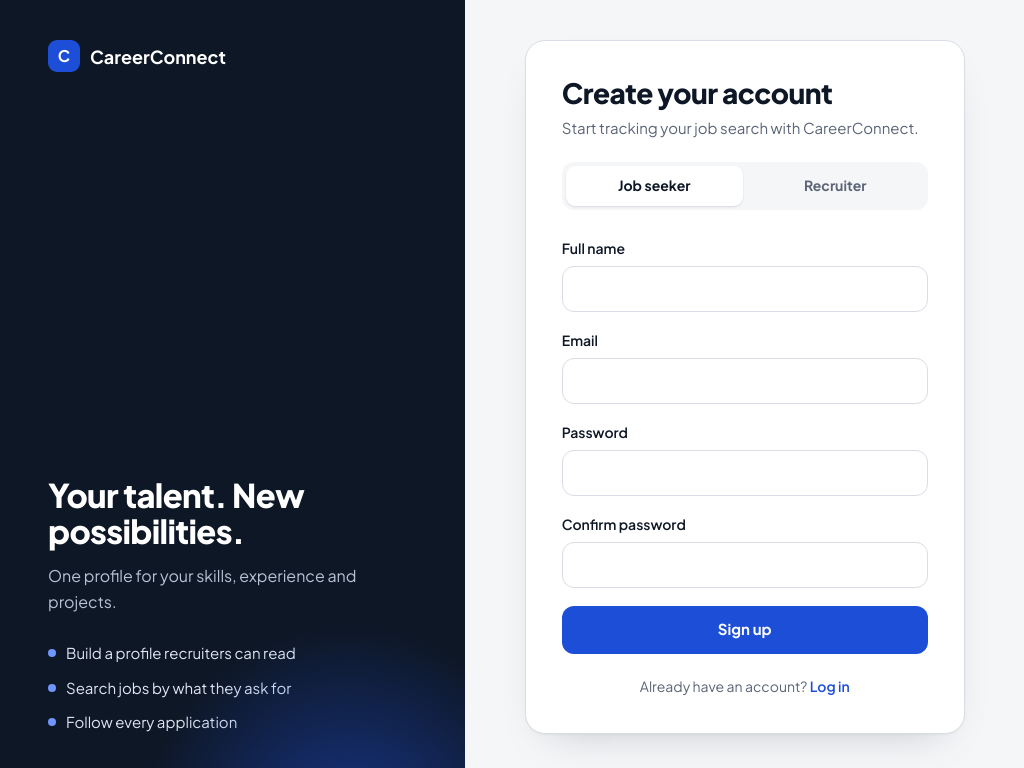
Test: signup submission › shows a returned error and re-enables the button without redirecting
The width and height of the screenshot is (1024, 768).
Type "Test User" into the field labelled "Full name". click: (745, 289)
box: x1=562 y1=266 x2=928 y2=312
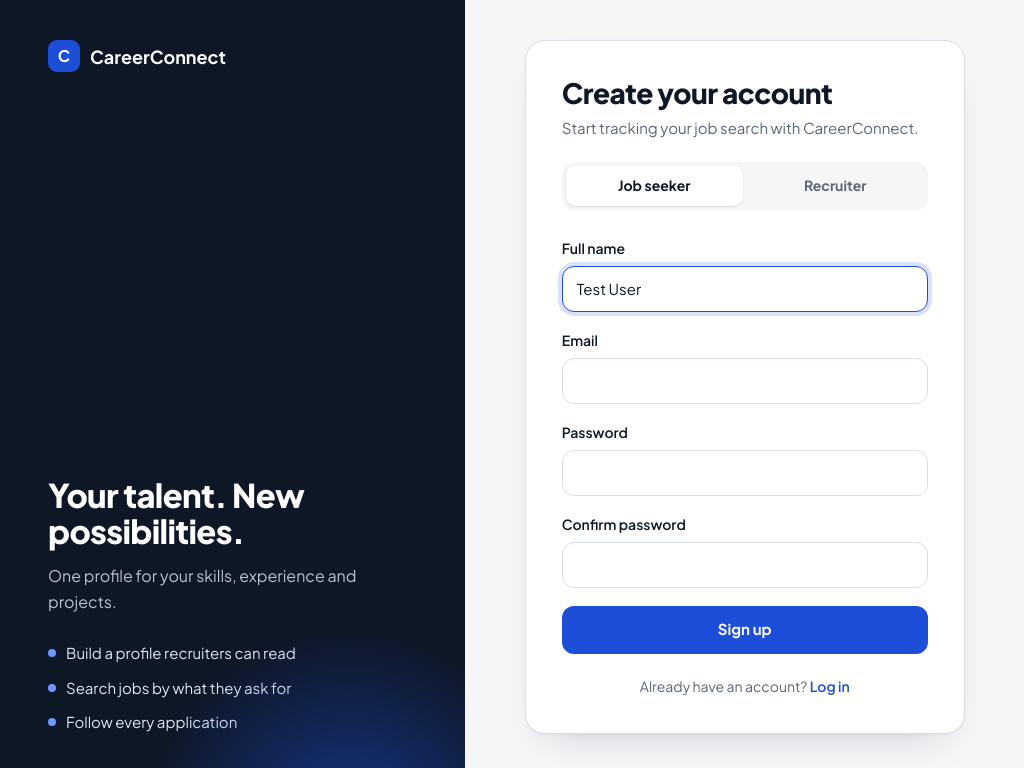
Type "test@example.com" into the field labelled "Email". click: (745, 381)
box: x1=562 y1=358 x2=928 y2=404
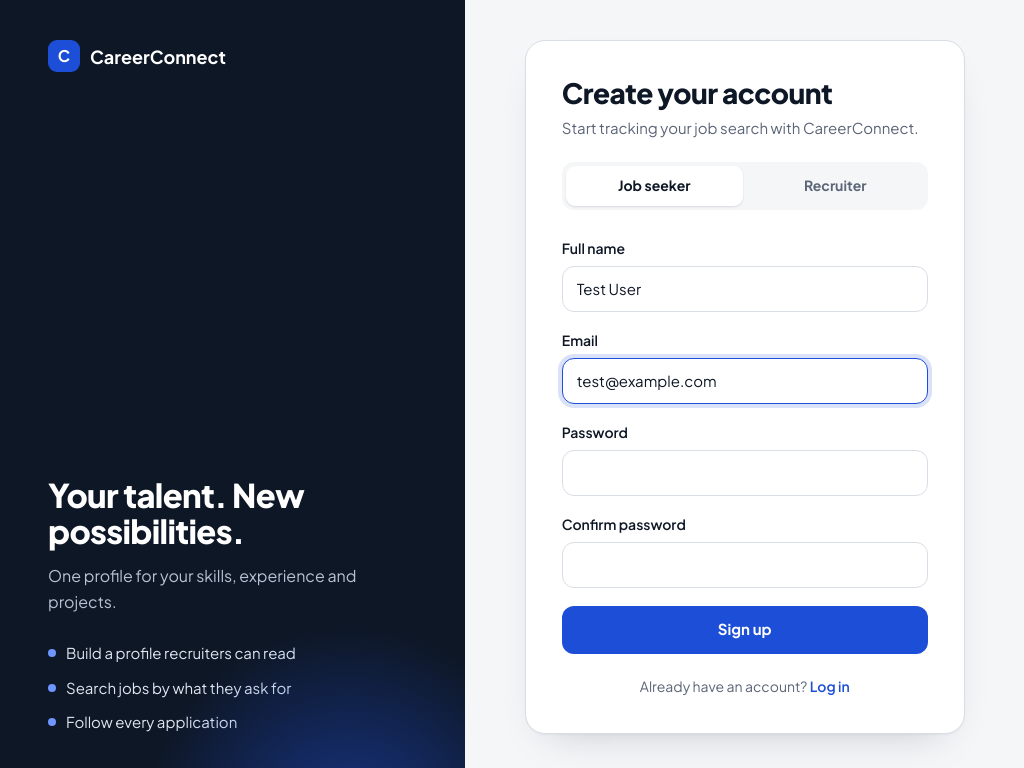
Type "Password123" into the password field labelled "Password". click: (745, 473)
box: x1=562 y1=450 x2=928 y2=496
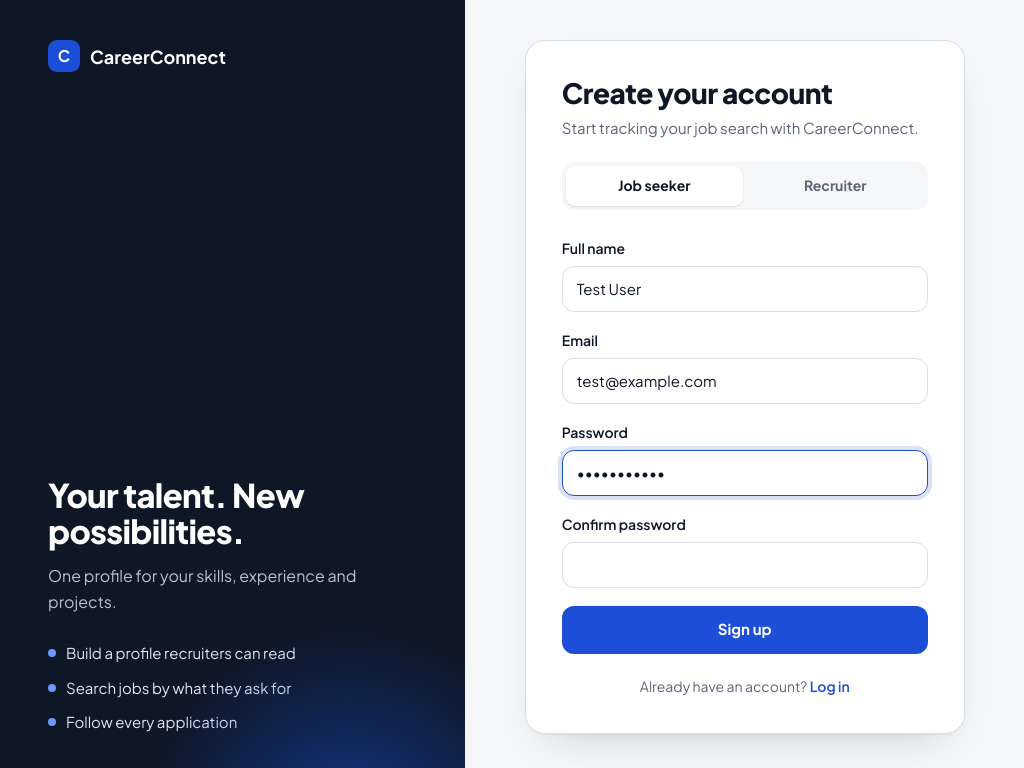
Type "Password123" into the password field labelled "Confirm password". click: (745, 565)
box: x1=562 y1=542 x2=928 y2=588
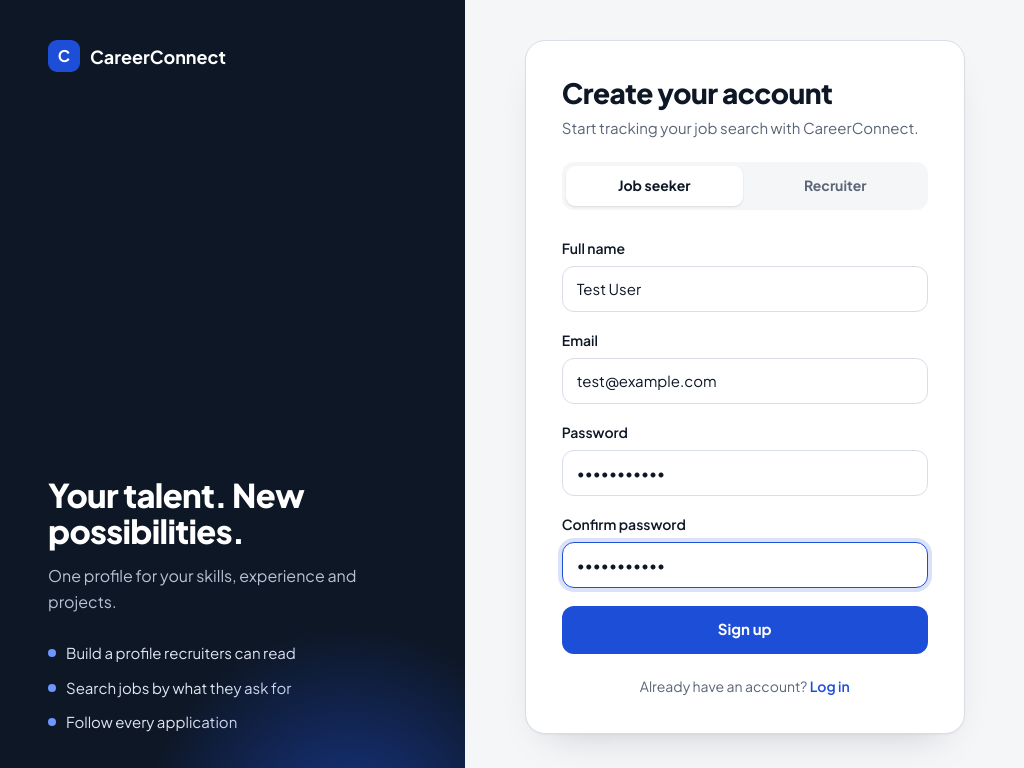
Click the button "Sign up". click: (745, 630)
box: x1=562 y1=606 x2=928 y2=654
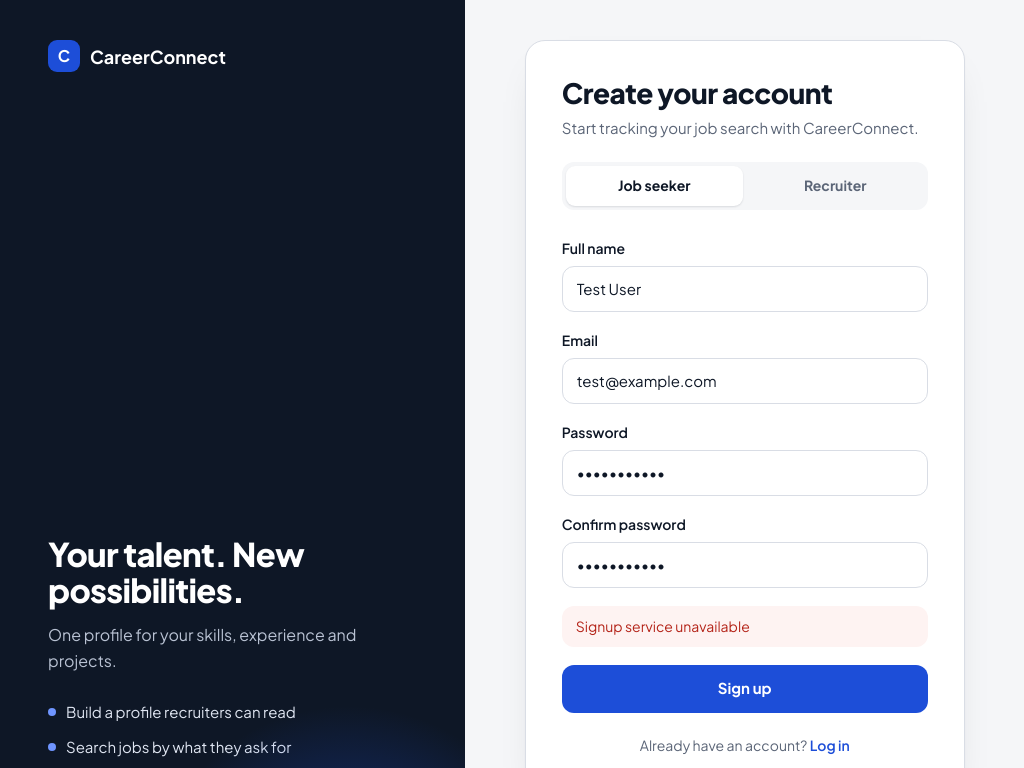
Expected: the button "Sign up" is enabled, x1=562 y1=665 x2=928 y2=713
Now the text "Signup service unavailable" is shown, box x1=562 y1=606 x2=928 y2=647
